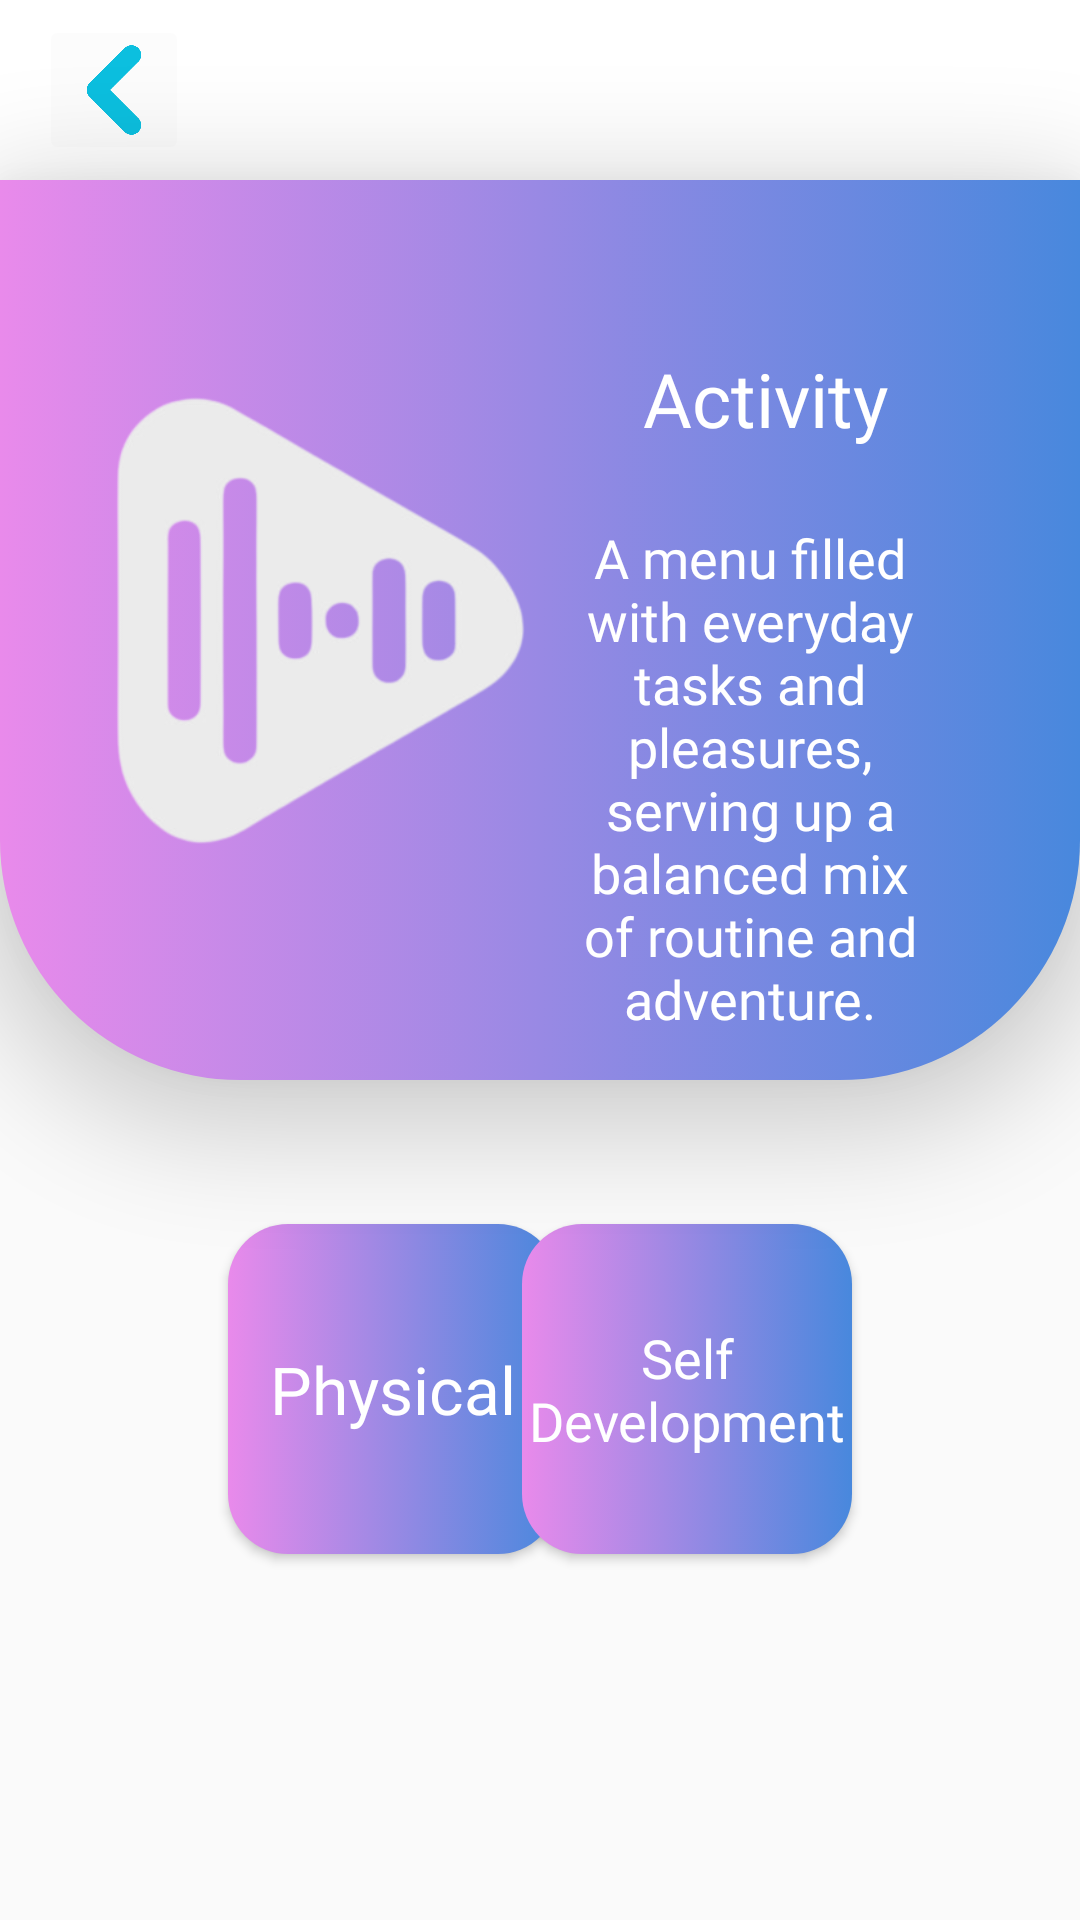

Locate icon controls on the screen. Image size 1080 × 1920, boxes as (x1, y1, x2, y2).
back: (87, 45, 141, 135)
